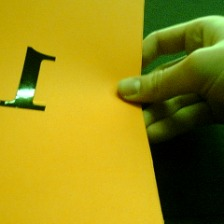orange1: (1, 45, 60, 116)
